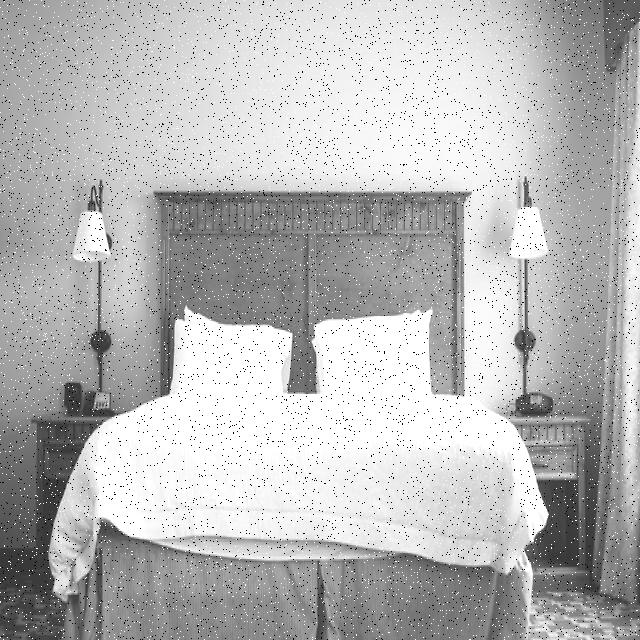bed: (63, 314, 550, 640)
